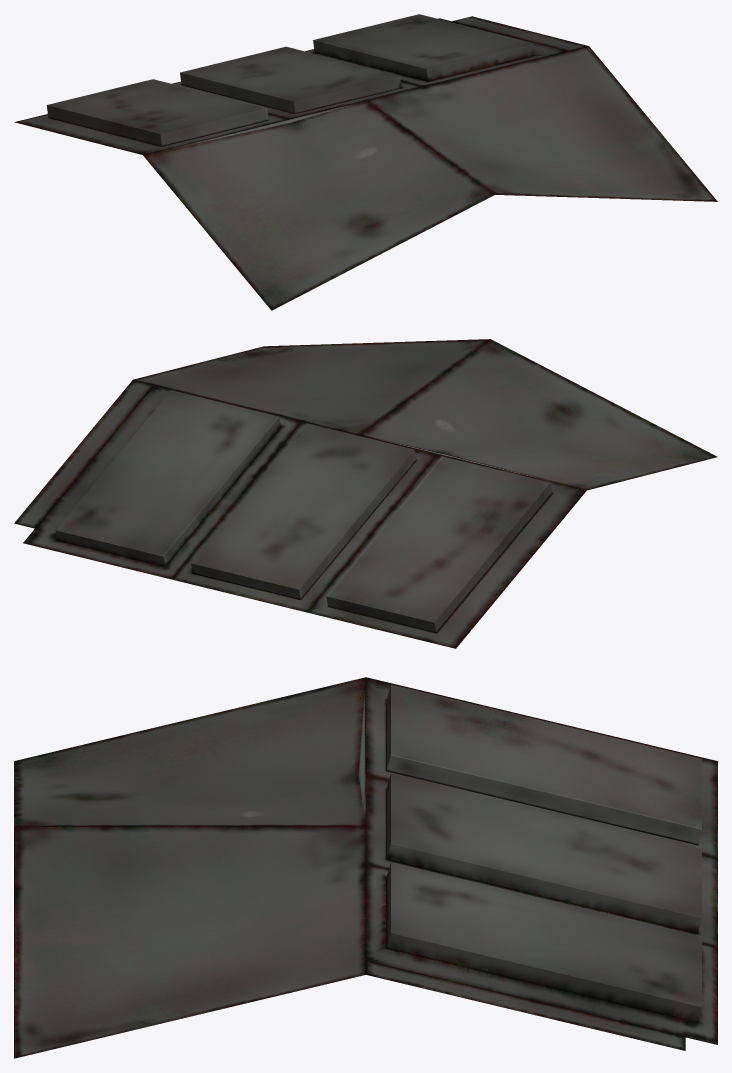
File: AngeledTunnel celing.fbx
3 renders of one model, top to bottom at view 1: azimuth 30°, elevation 25°; view 2: azimuth 150°, elevation 25°; view 3: azimuth 270°, elevation 25°, orthographic. The views are drawn at different scales.
Visible parts, largest first — view 1: Cube.020; view 2: Cube.020; view 3: Cube.020.
Boxes of the visible parts, x1=… form: Cube.020: x1=14, y1=14, x2=717, y2=310; Cube.020: x1=14, y1=339, x2=717, y2=648; Cube.020: x1=14, y1=677, x2=717, y2=1058.
Size of the model in its own units: 1000 by 1000 by 148.
